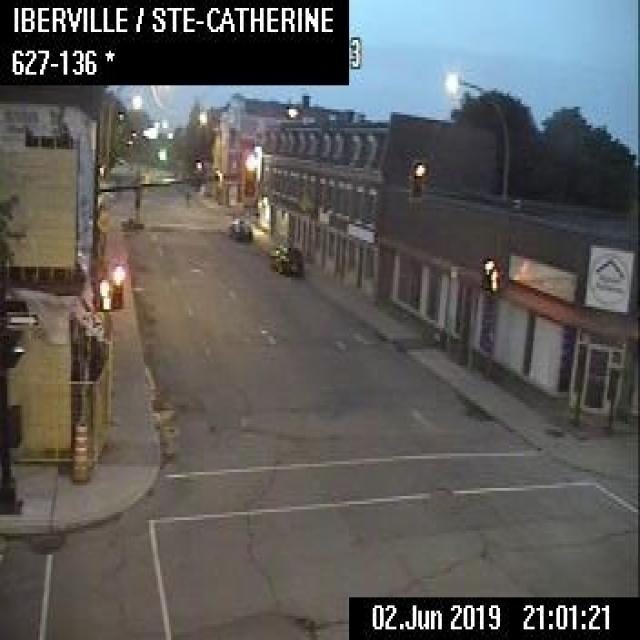construction: (69, 418, 90, 482)
vehicle: (276, 245, 302, 275), (228, 217, 250, 240), (268, 240, 285, 268)
